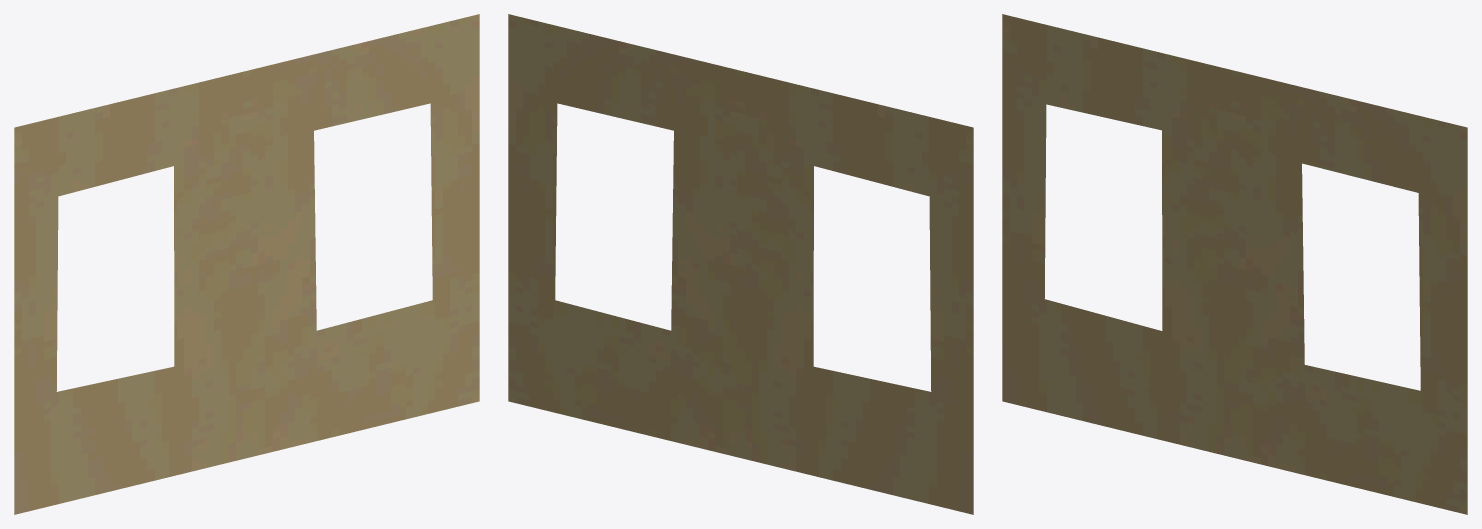
The model's file is W_AI1_ff [Beige]_2120.glb.
3 views of the same model, side by side, from view 1: azimuth 30°, elevation 25°; view 2: azimuth 150°, elevation 25°; view 3: azimuth 330°, elevation 25° (orthographic).
Visible parts, largest first — view 1: pPlaneShape1; view 2: pPlaneShape1; view 3: pPlaneShape1.
Part boxes in pixels (bbox=[...]): pPlaneShape1: bbox=[14, 14, 479, 514]; pPlaneShape1: bbox=[508, 14, 973, 514]; pPlaneShape1: bbox=[1002, 14, 1467, 514].
Size of the model in its own units: 0.4385 by 0.3486 by 1.34e-07.
1 material, 1 textured.
